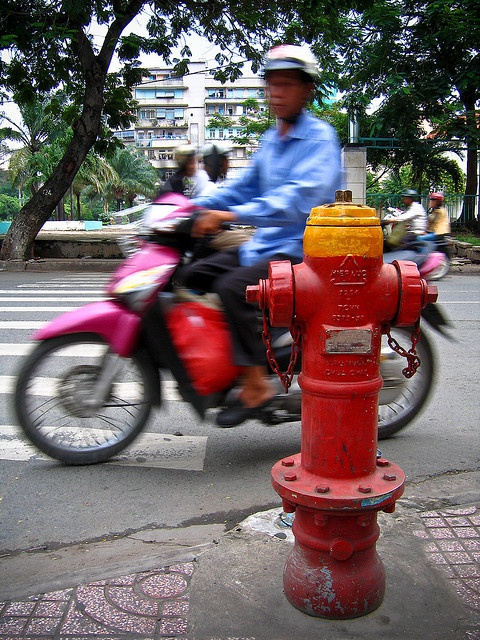non-vehicle: (15, 143, 457, 465), (380, 220, 453, 282)
